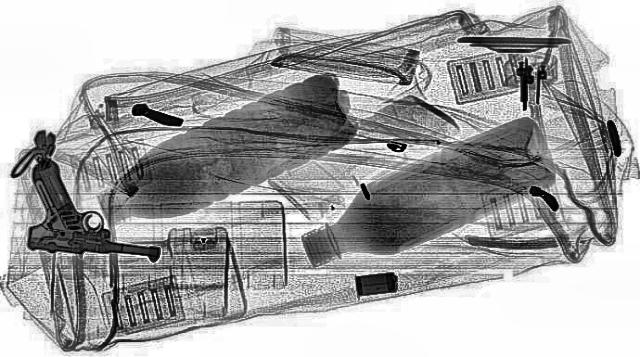Gun: (7, 154, 184, 260)
